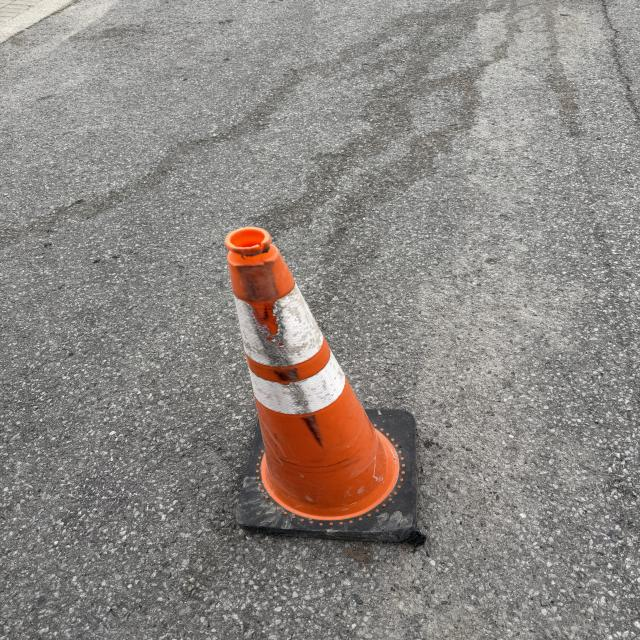Traffic Cone: (217, 227, 428, 546)
